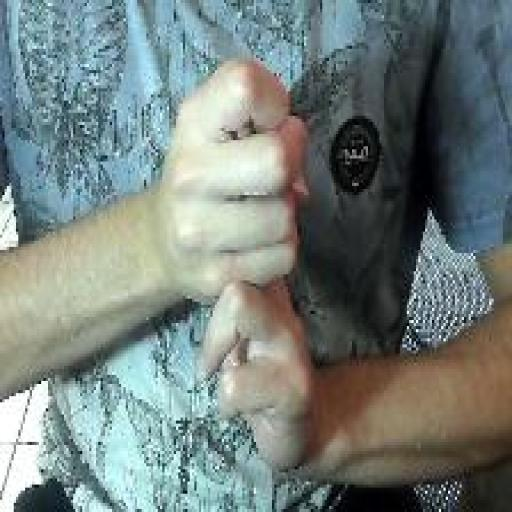Ne -rat-: (159, 53, 319, 486)
